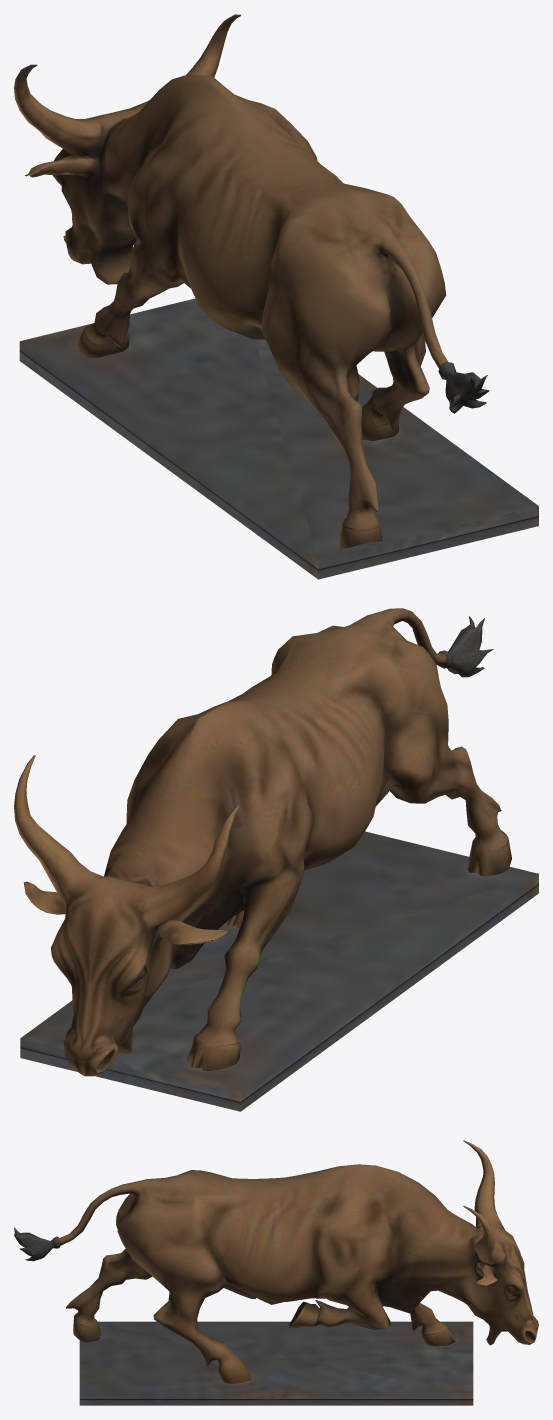
The model's file is office-bull-statue.glb.
The picture shows the model from 3 angles, top to bottom: view 1: azimuth 30°, elevation 25°; view 2: azimuth 150°, elevation 25°; view 3: azimuth 270°, elevation 25°; orthographic projection. The views are drawn at different scales.
Visible parts, largest first — view 1: bull-statue; view 2: bull-statue; view 3: bull-statue.
Part boxes in pixels (x1,y1,x2,y2): bull-statue: (14, 14, 538, 579); bull-statue: (14, 608, 538, 1111); bull-statue: (14, 1140, 538, 1405).
Size of the model in its own units: 0.4478 by 0.6069 by 1.4.
Materials: 1 (1 with a texture image).
